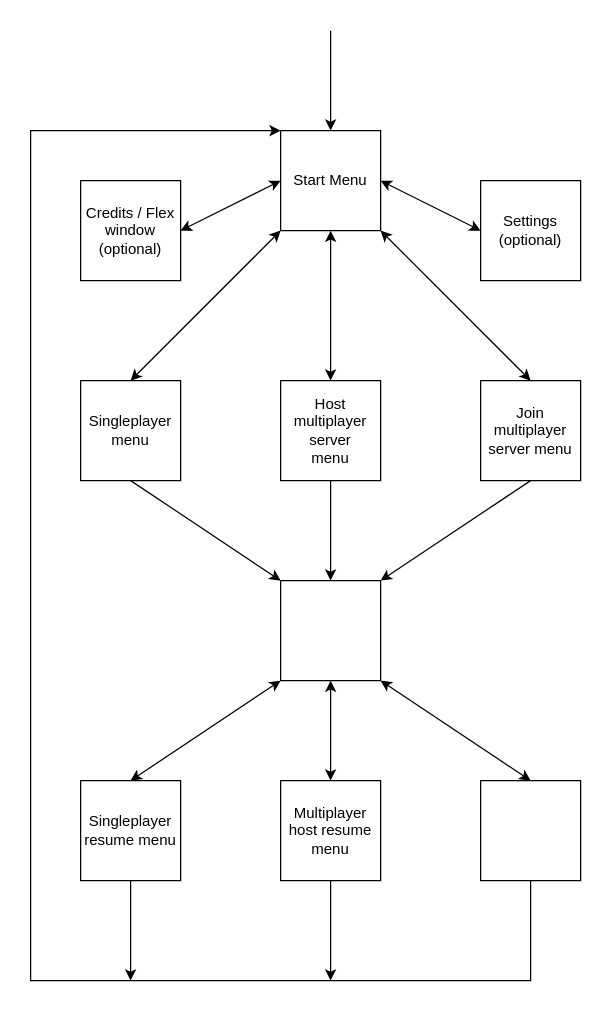
This 603x1013 diagram has some shape labels left out. Here are the shapes that lost their labels. From the top down, the box of each, then its label:
(279, 579, 381, 681): Game
(479, 779, 581, 881): Multiplayer client resume menu
